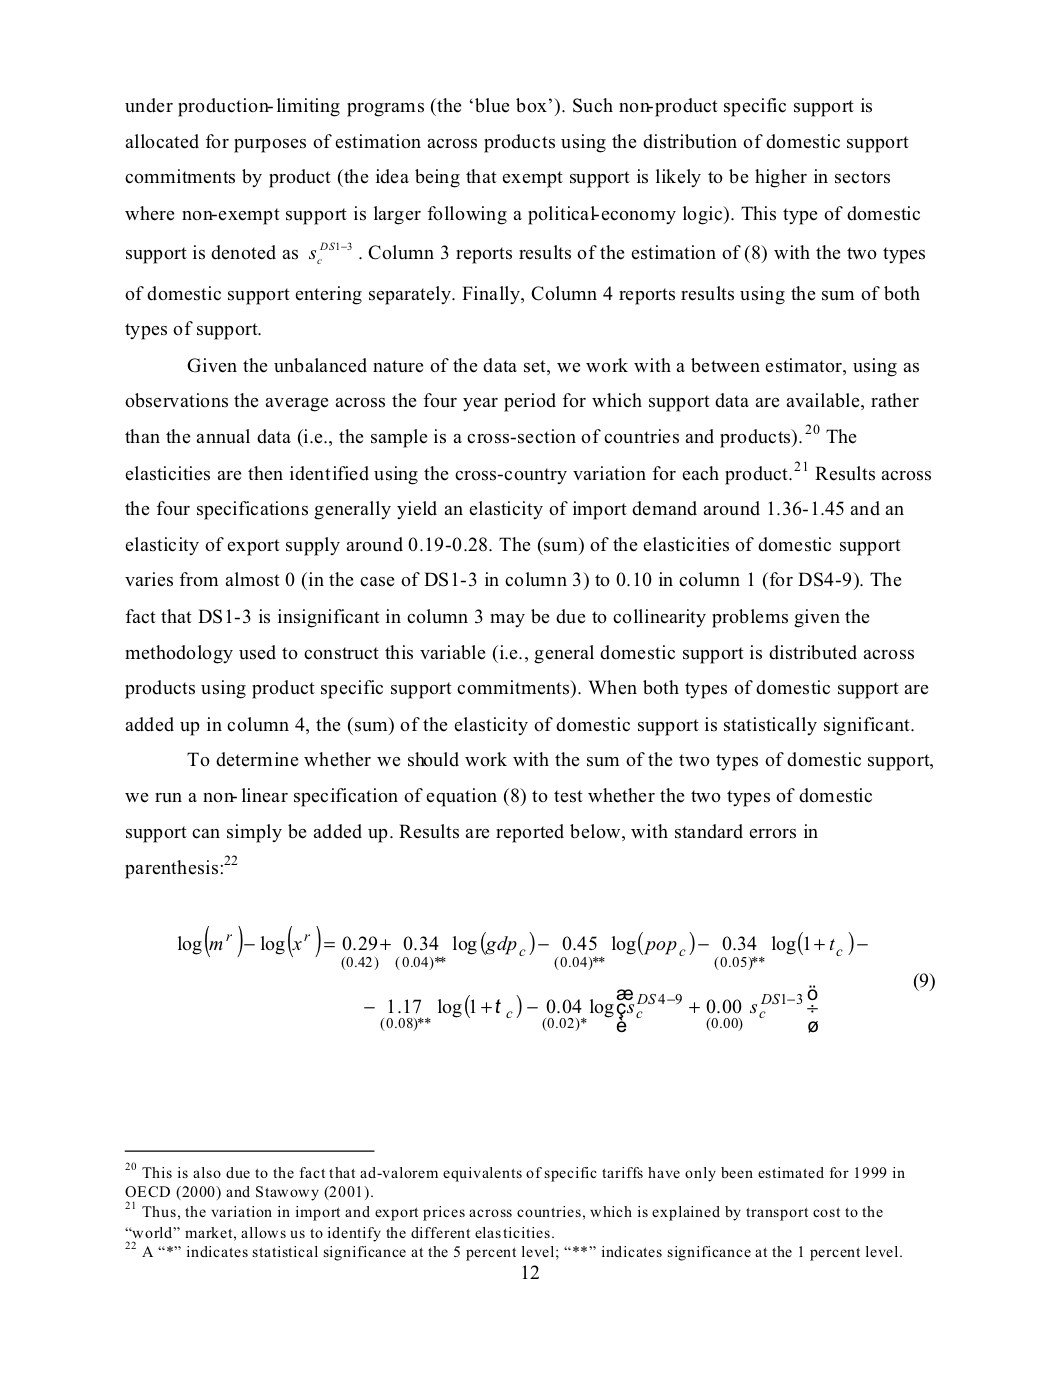figure: (124, 1149, 374, 1152)
formula: (364, 972, 934, 1033), (177, 925, 867, 970)
